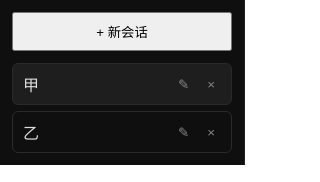
Test: ConversationSidebar 动作 › 删除 Confirm → conversations:delete 级联 + 选中回落到下一个
Step 1. Click the 1st button "×" → (211, 84), box [201, 76, 221, 92]
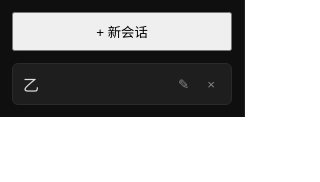
expect the text "甲" is gone: met
